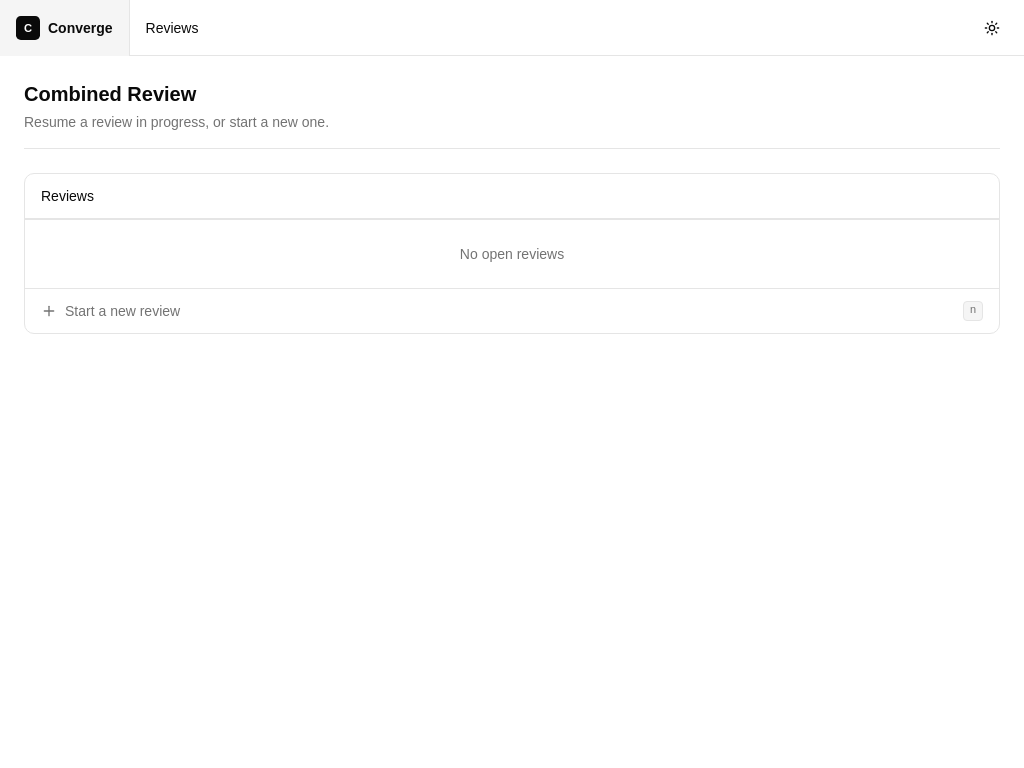
ReviewsPage › searches the provider and enables the primary action on selection
Click the button "Start a new review n". click: (123, 311)
box: 25,289 -> 999,333
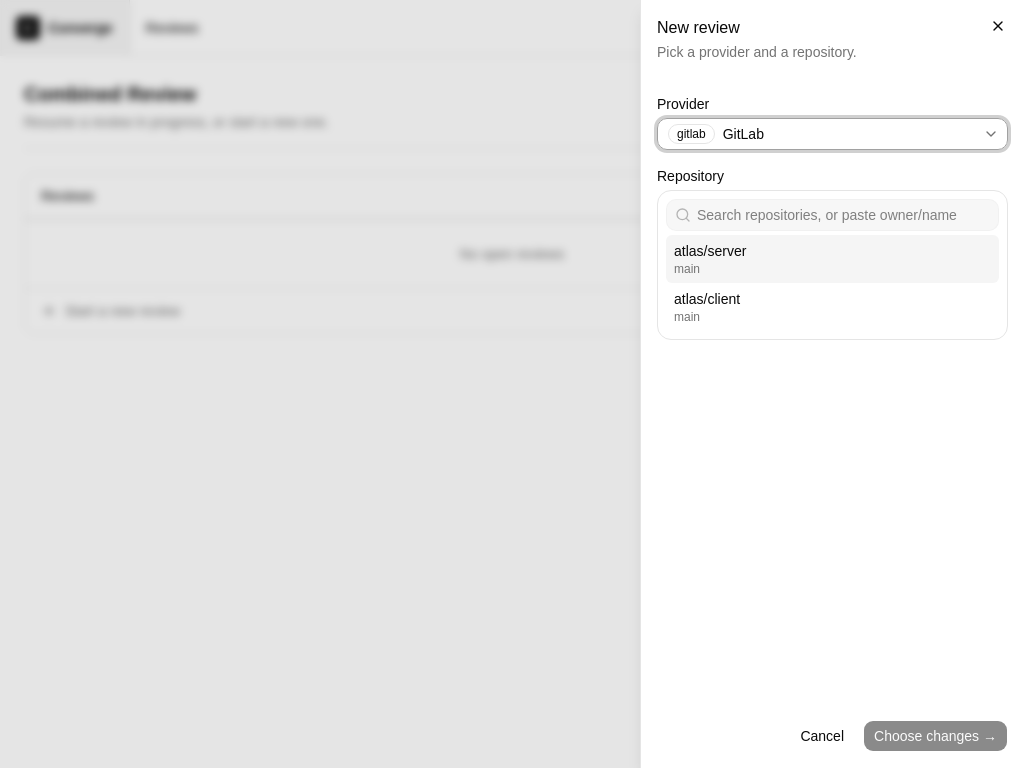
Type "server" into the dropdown with placeholder "Search repositories, or paste owner/name". click: (844, 215)
box: 691,205 -> 998,225
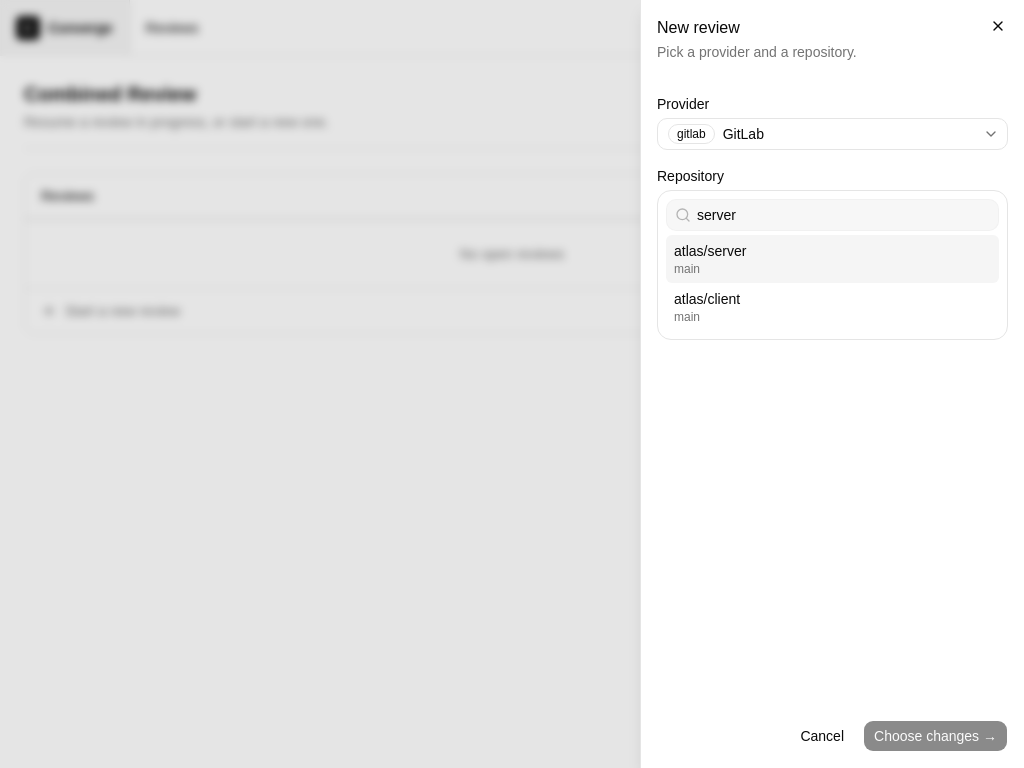
Click the option "atlas/server main". click: (710, 251)
box: 666,235 -> 999,283
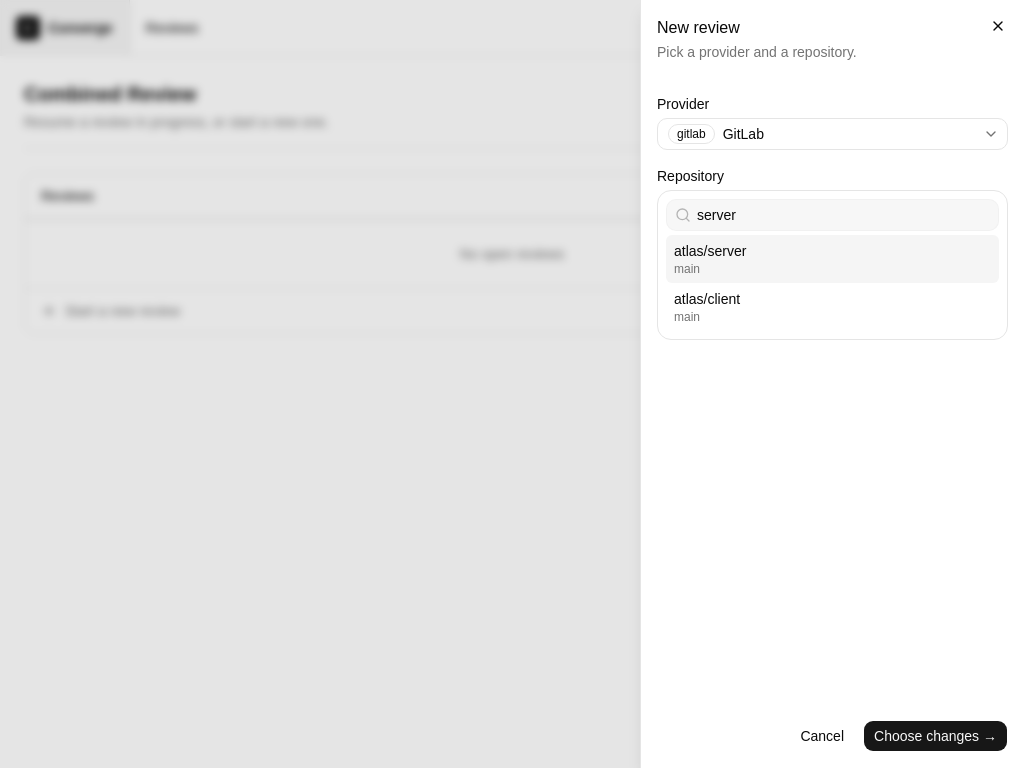
Expected: the button "Choose changes →" is enabled
Click the button "Choose changes →". click: (936, 736)
box: 863,720 -> 1008,752
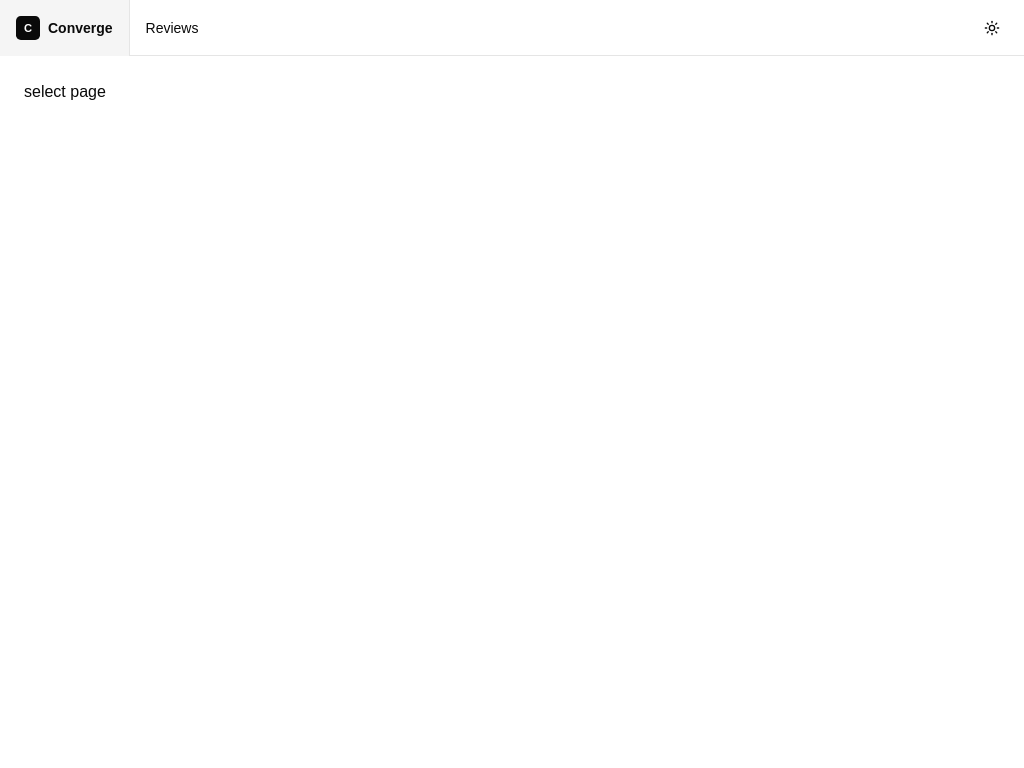
Expected: the text "select page" is shown, 24,83 -> 106,100
